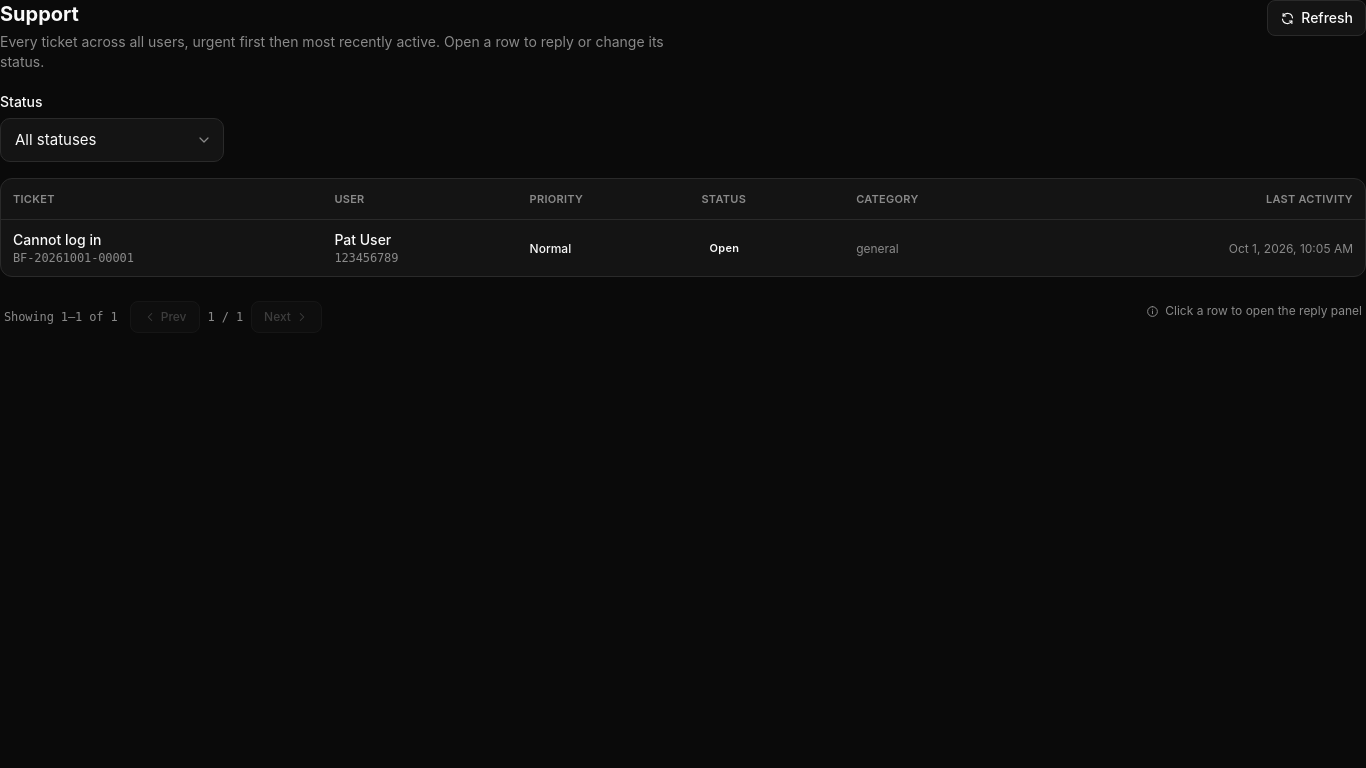
Test: AdminSupportPage — real ticket thread › loads the thread when a row is opened and renders sender, body and attachment
Step 1. Click the text "Cannot log in" → [57, 240], box [13,231,101,248]
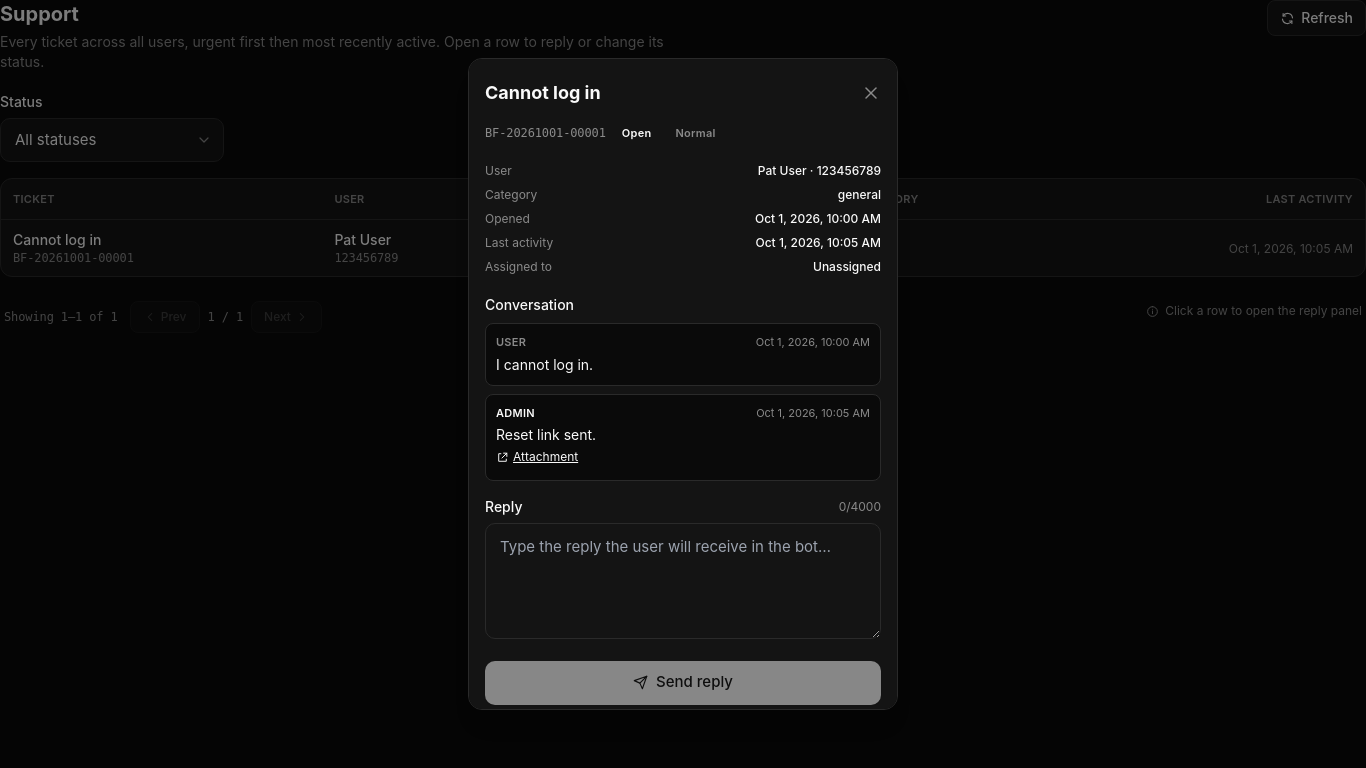
expect the text "I cannot log in." is shown: met, box [496,356,593,373]
expect the text "Reset link sent." is shown: met, box [496,426,596,443]
expect the list item "I cannot log in." shows "User": met, box [496,335,526,349]
